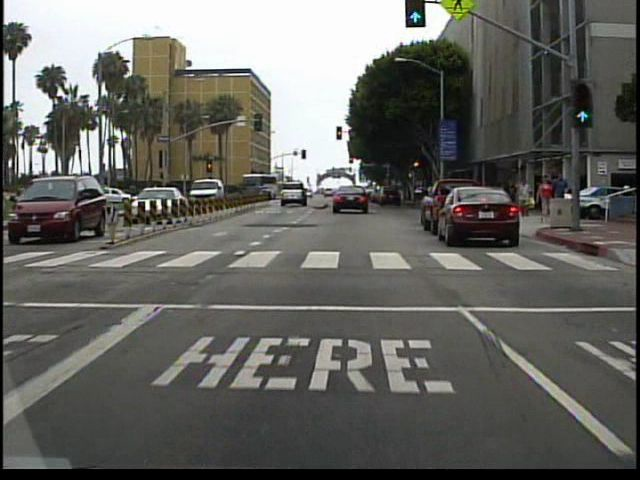person: (552, 170, 570, 224), (538, 176, 555, 223), (518, 176, 534, 219)
